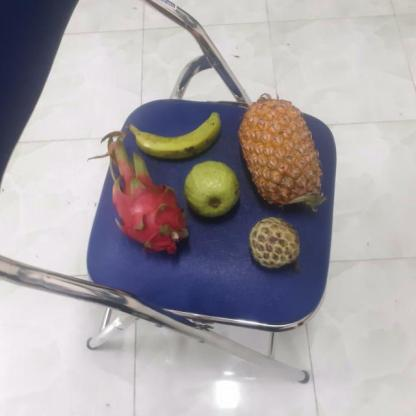annona: (251, 217, 306, 269)
guava: (182, 161, 244, 219)
pineapple: (239, 100, 327, 213)
pitaya: (113, 157, 192, 253)
